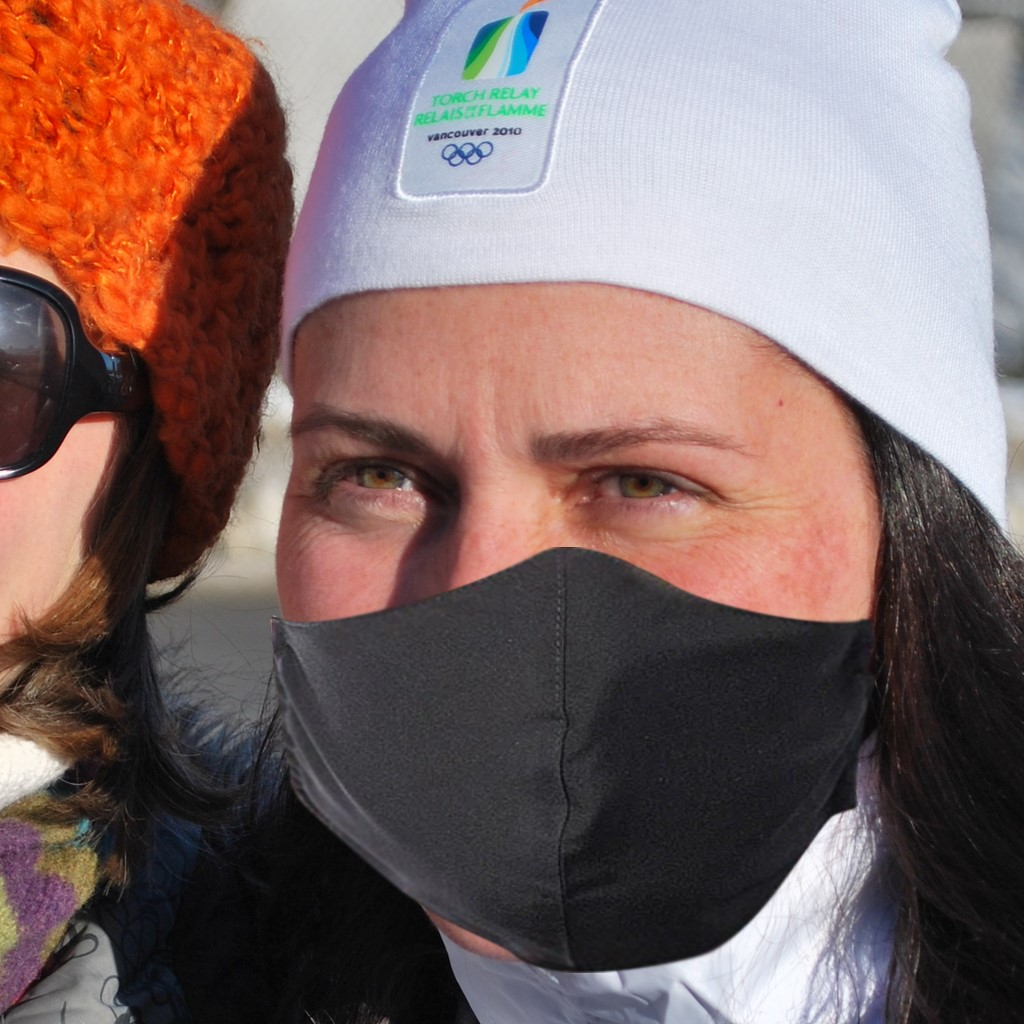con_mascara: (250, 254, 895, 973)
